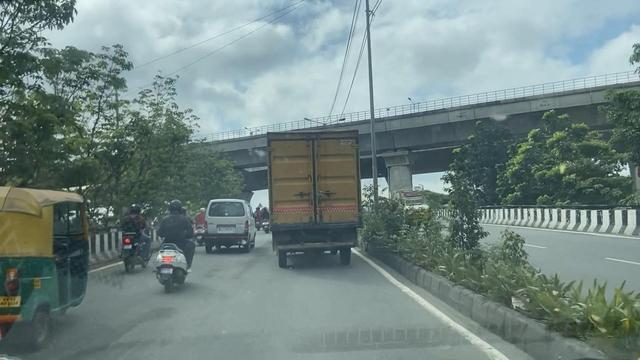HMV: (270, 130, 362, 273)
LMV: (0, 193, 91, 356), (152, 202, 194, 277), (202, 192, 249, 250), (122, 196, 150, 277)
